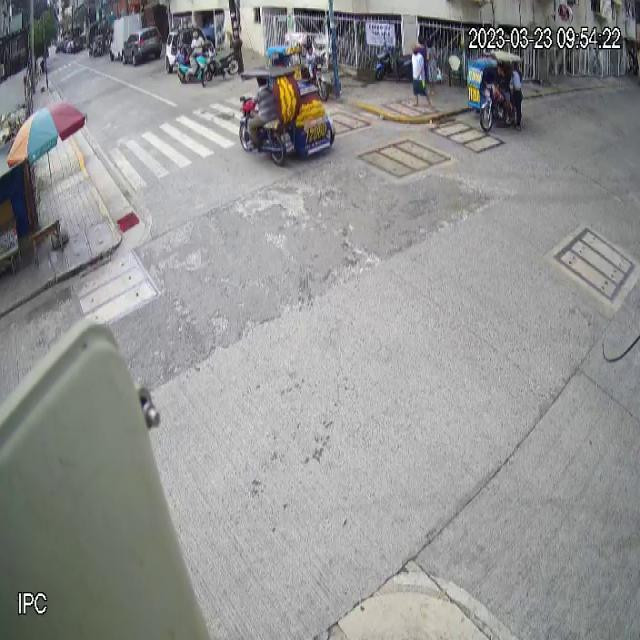Tricycle: (238, 66, 336, 167), (466, 50, 524, 131)
